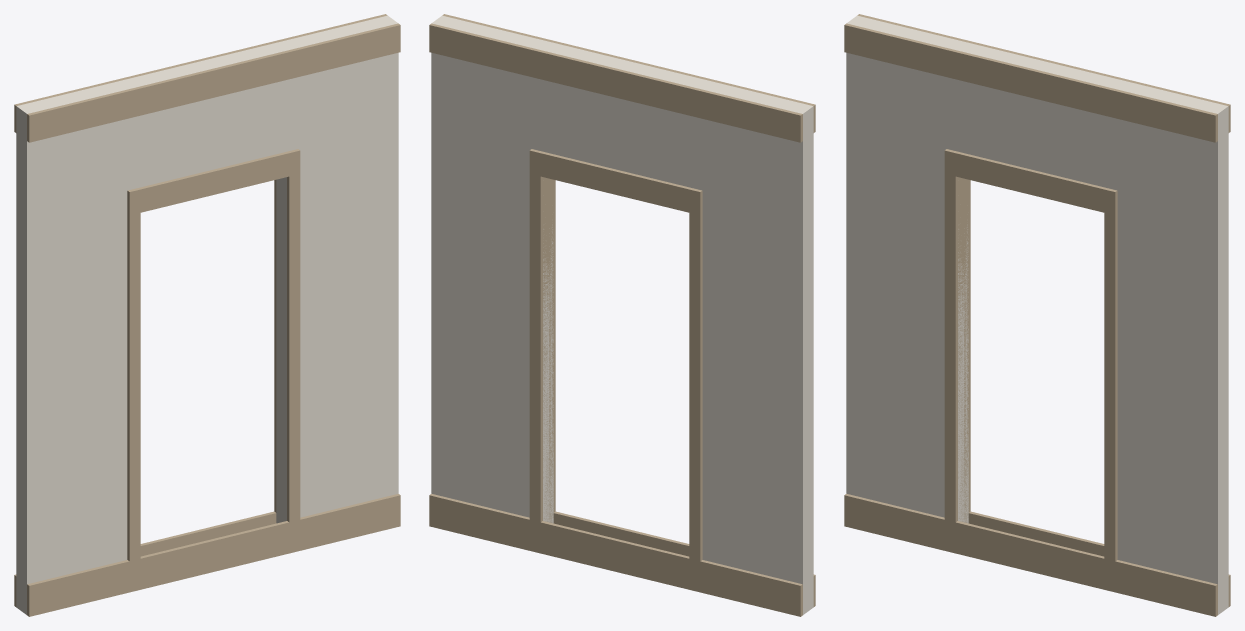
Rendered from partitionDoor.glb.
The picture shows the model from 3 angles, left to right: view 1: azimuth 30°, elevation 25°; view 2: azimuth 150°, elevation 25°; view 3: azimuth 330°, elevation 25°; orthographic projection.
Visible parts, largest first — view 1: partitionDoor; view 2: partitionDoor; view 3: partitionDoor.
Boxes of the visible parts, x1,y1,x2,y2 form: partitionDoor: [14, 14, 400, 616]; partitionDoor: [429, 14, 815, 616]; partitionDoor: [844, 14, 1230, 616].
Size of the model in its own units: 1 by 1.29 by 0.07.
1 material, 1 textured.
